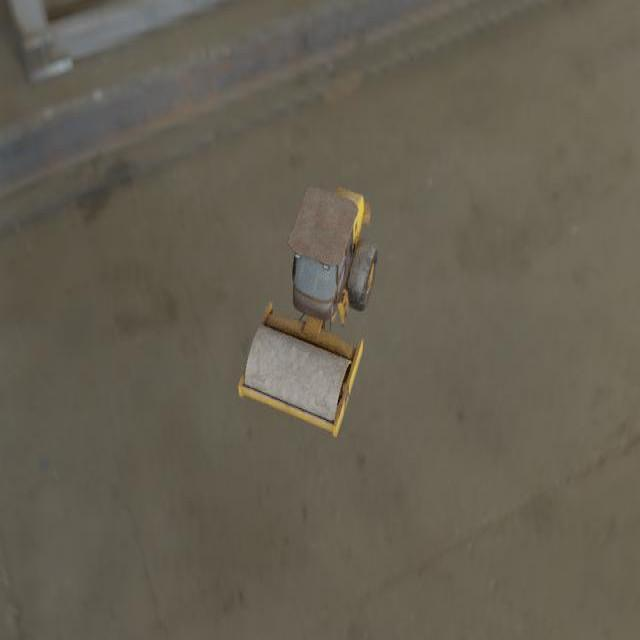Roller: (237, 185, 378, 438)
